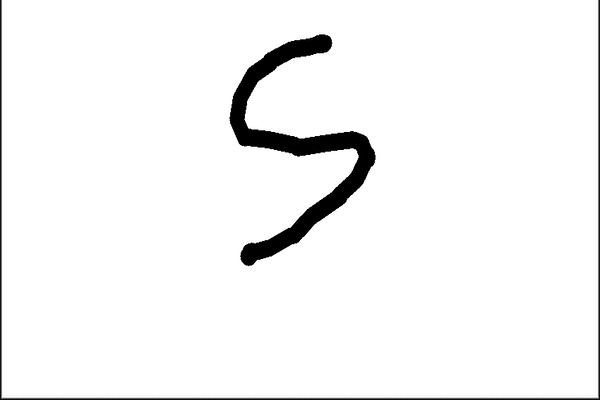S: (224, 28, 380, 269)
